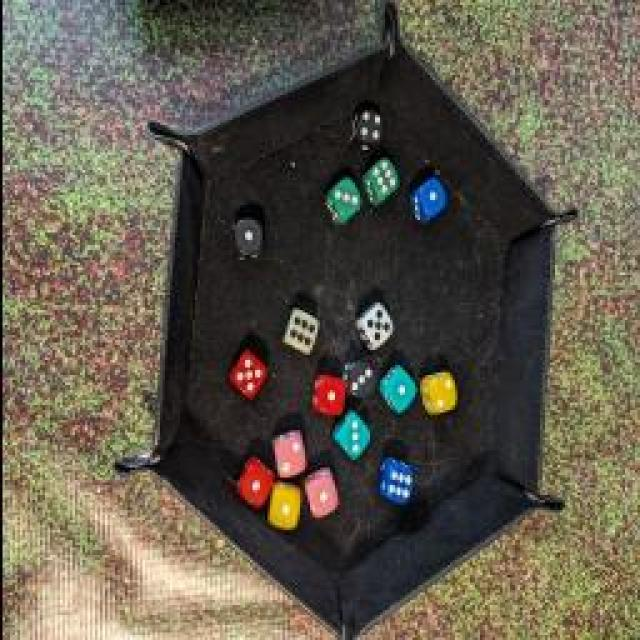dice_1: (374, 359, 416, 419), (234, 451, 276, 511), (266, 476, 306, 536), (299, 468, 339, 522), (310, 371, 350, 421), (408, 178, 444, 228), (228, 216, 264, 266)
dice_2: (414, 365, 458, 420), (268, 425, 304, 485)
dice_3: (335, 355, 380, 405), (321, 175, 359, 230), (329, 412, 369, 462)
dice_4: (350, 105, 385, 150)
dice_5: (225, 348, 270, 402), (354, 302, 394, 352)
dice_6: (358, 156, 400, 212), (372, 452, 412, 510), (278, 309, 318, 361)
